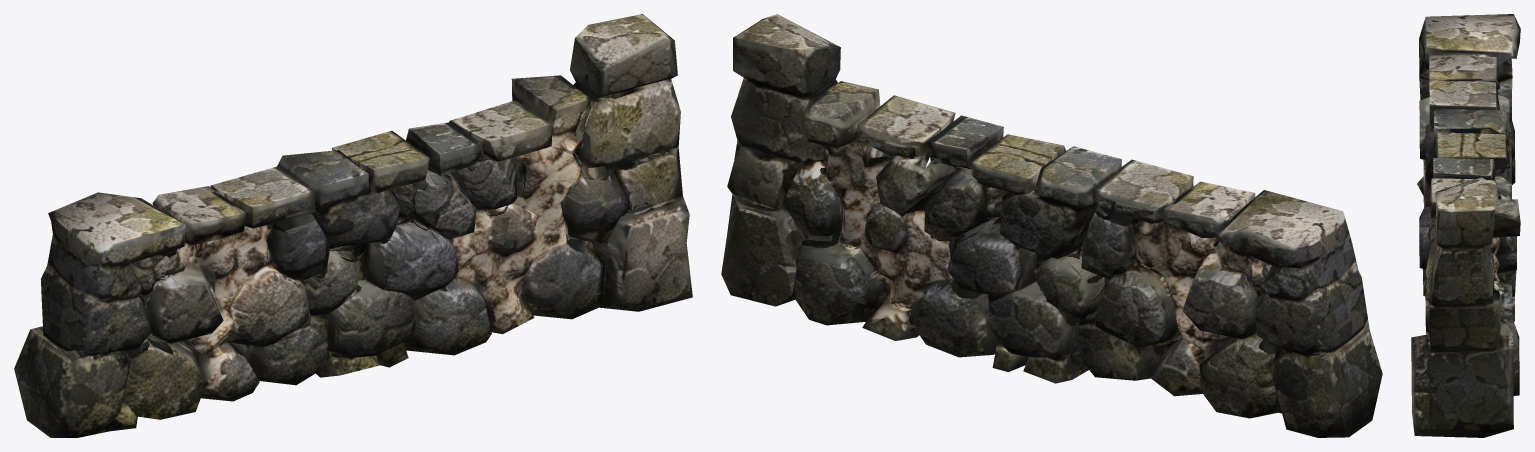
File: act1_kit_v1_flint_wall.glb
3 renders of one model, left to right at view 1: azimuth 30°, elevation 25°; view 2: azimuth 150°, elevation 25°; view 3: azimuth 270°, elevation 25°, orthographic. The views are drawn at different scales.
Parts seen in each view (by area): view 1: A01_3_flint_wall; view 2: A01_3_flint_wall; view 3: A01_3_flint_wall.
Boxes of the visible parts, <box> form: A01_3_flint_wall: <box>14,14,692,437</box>; A01_3_flint_wall: <box>721,14,1382,437</box>; A01_3_flint_wall: <box>1411,14,1520,437</box>.
Bounding box in the file's own units: 0.9969 × 0.3992 × 0.1697.
Materials: 1 (1 with a texture image).
